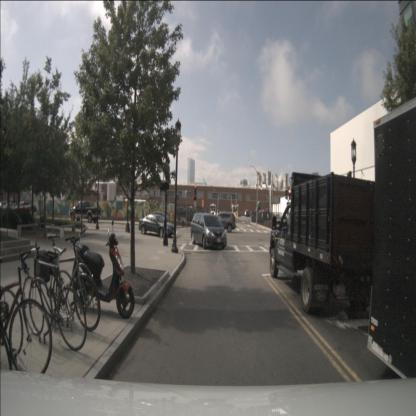vehicle-car: (191, 212, 226, 250), (138, 214, 174, 238), (212, 212, 236, 233), (143, 211, 168, 228), (175, 207, 192, 220), (244, 210, 250, 217)
vehicle-motorcycle: (72, 218, 134, 319)
vehicle-truck: (269, 172, 400, 314), (70, 201, 101, 223), (16, 201, 36, 216), (210, 204, 216, 218)
